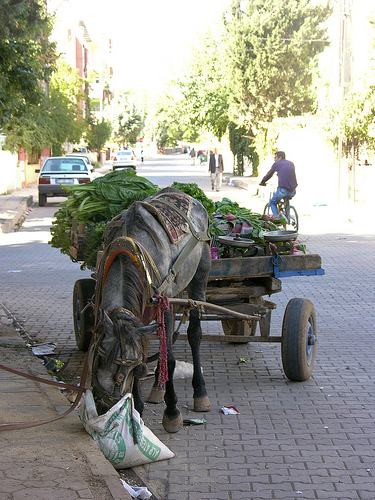horse: (89, 187, 214, 434)
